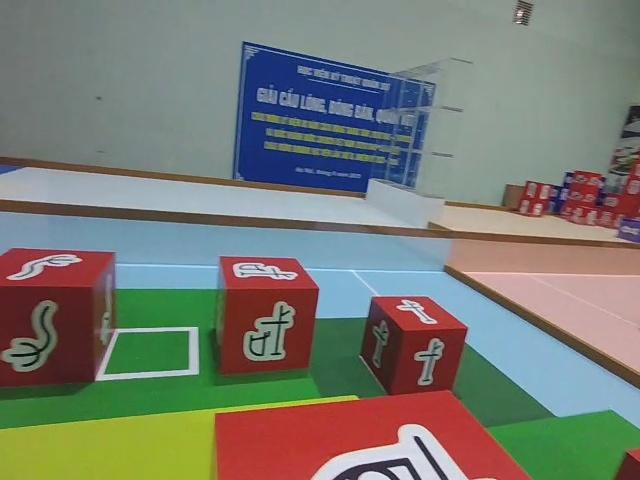R2 Real: (0, 245, 117, 389), (210, 253, 321, 377), (358, 292, 471, 400)
